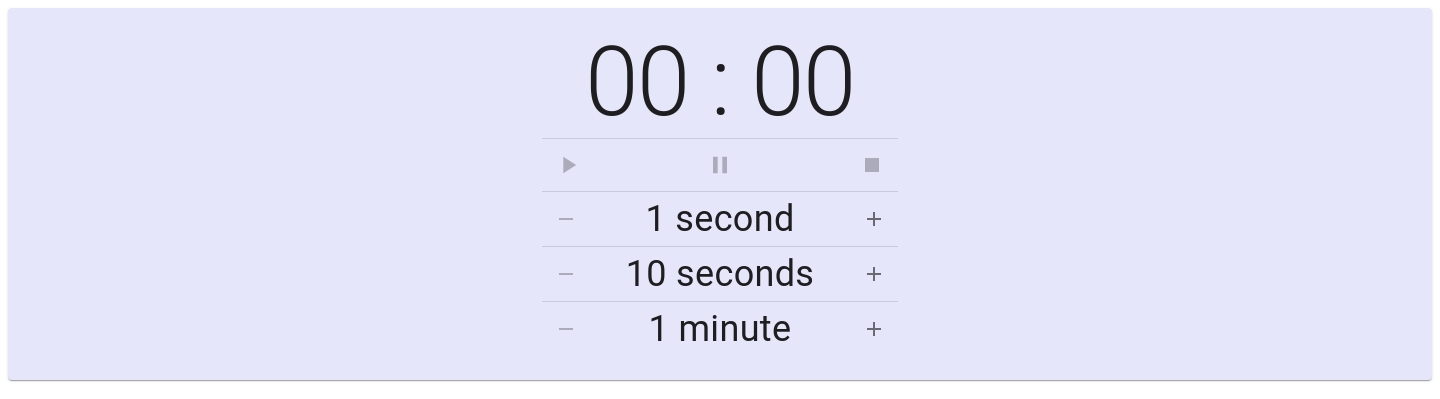
<Timer /> › when timer is active › clicking the reset button will set the timer in its default state
Click the button named "add 1 second": (874, 219) [850,195,898,243]
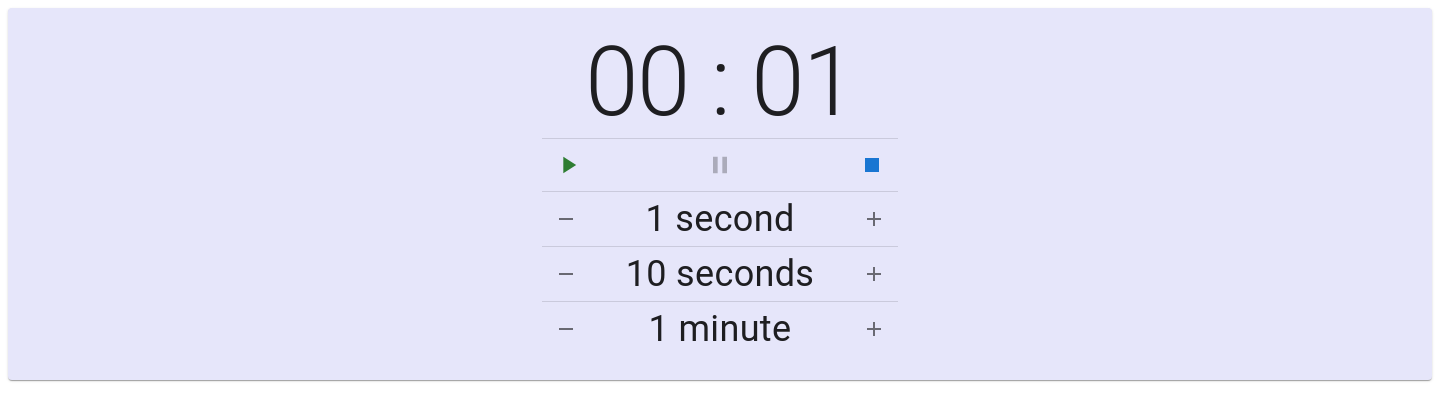
Click the button named "Start": (568, 165) [542,139,594,191]
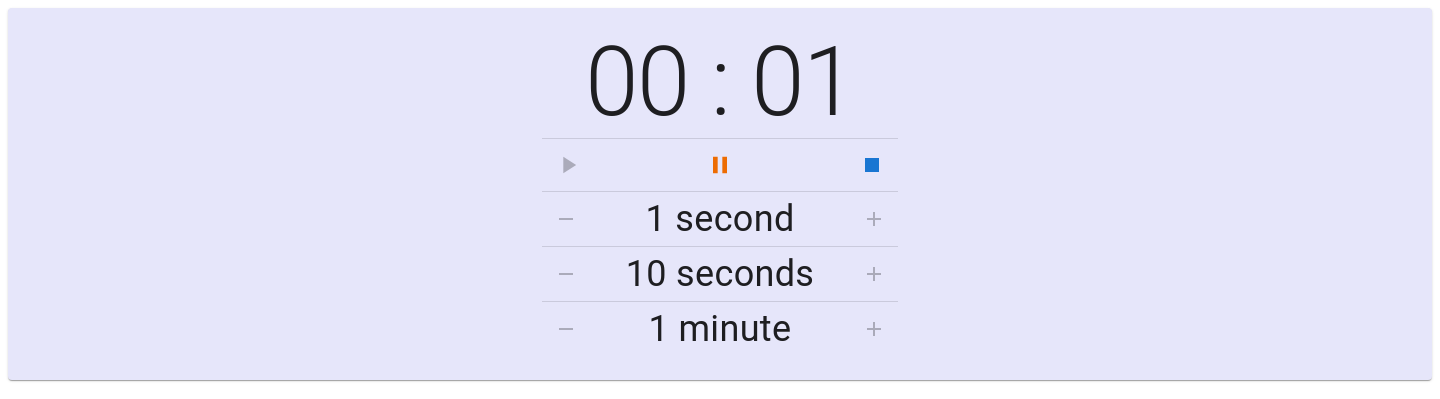
Check: the heading "00 : 00" does not show "00 : 00"
Click the button named "Reset": (872, 165) [846,139,898,191]
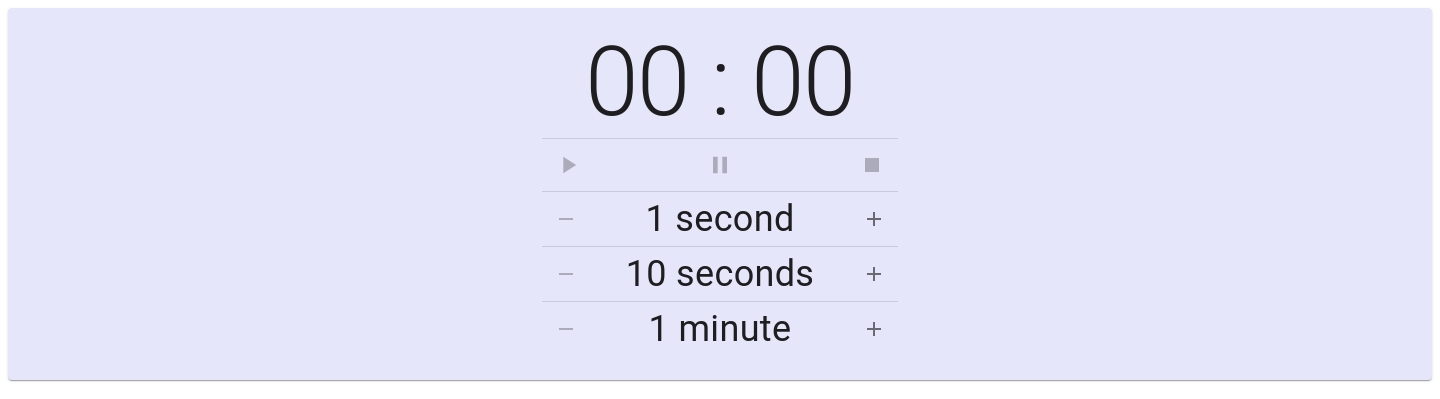
Check: the heading "00 : 00" is shown, box [585,26,855,138]
